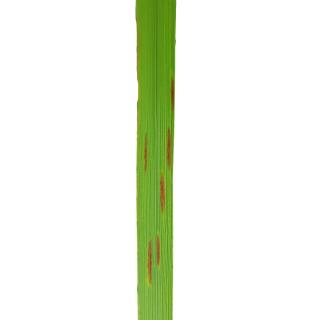Bercak-Cokelat-Sempit: (142, 230, 166, 288), (138, 126, 154, 176), (154, 170, 166, 216), (163, 124, 173, 174), (166, 74, 176, 118)
